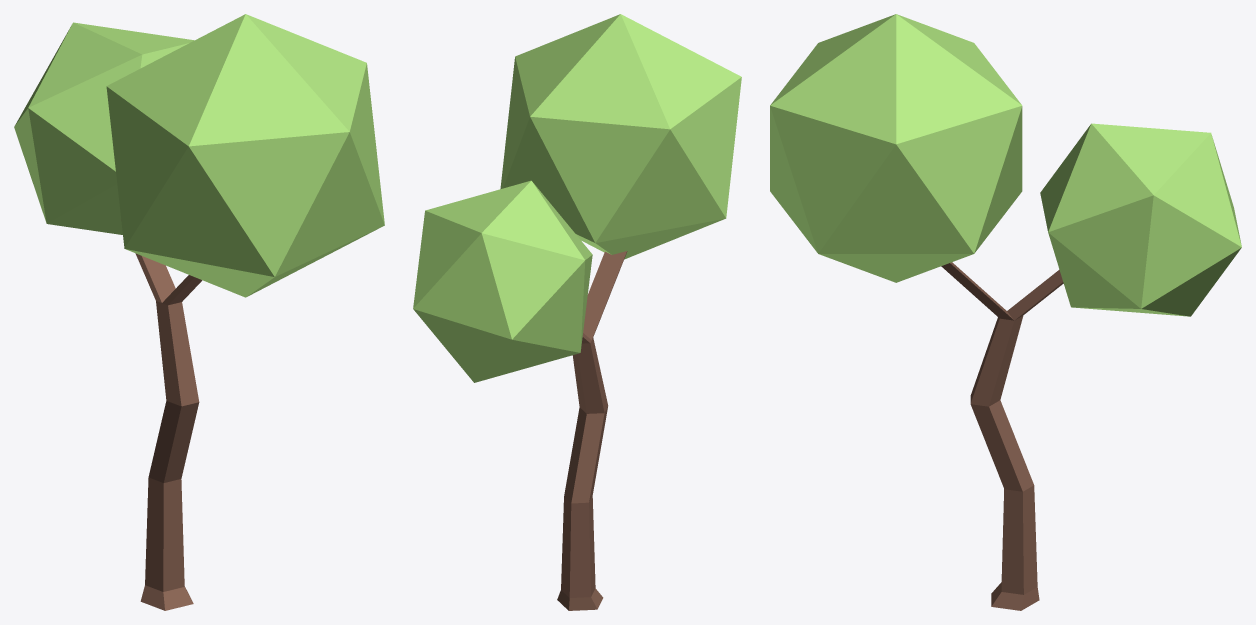
The model's file is Tree3.fbx.
3 views of the same model, side by side, from view 1: azimuth 30°, elevation 25°; view 2: azimuth 150°, elevation 25°; view 3: azimuth 270°, elevation 25° (orthographic). The views are drawn at different scales.
Visible parts, largest first — view 1: Icosphere.004; view 2: Icosphere.004; view 3: Icosphere.004.
Part boxes in pixels (left/top/right/bottom): Icosphere.004: left=14, top=14, right=384, bottom=610; Icosphere.004: left=413, top=14, right=741, bottom=610; Icosphere.004: left=770, top=14, right=1241, bottom=610.
Bounding box in the file's own units: 173 × 426 × 307.
